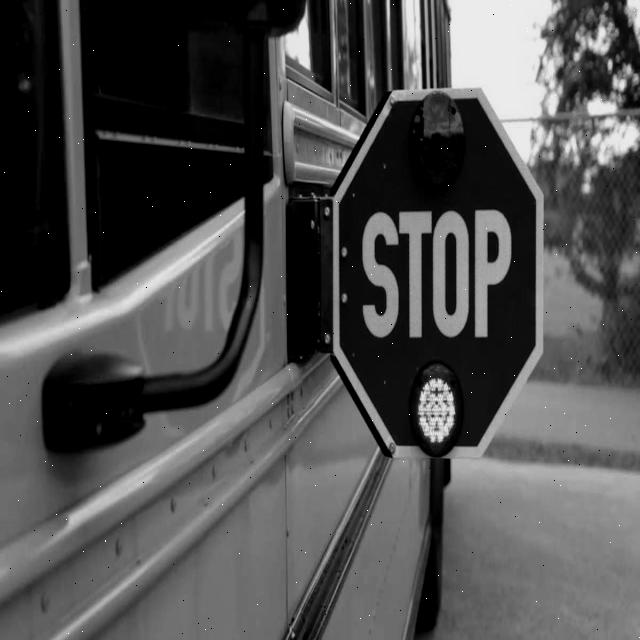Stop-sign: (323, 76, 553, 492)
